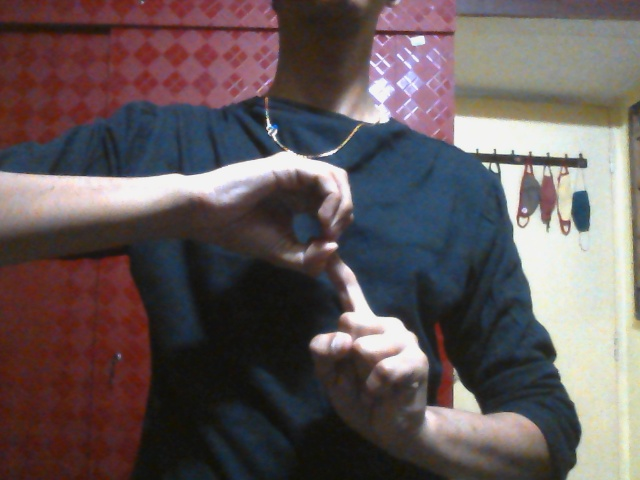Q: (200, 152, 429, 450)
